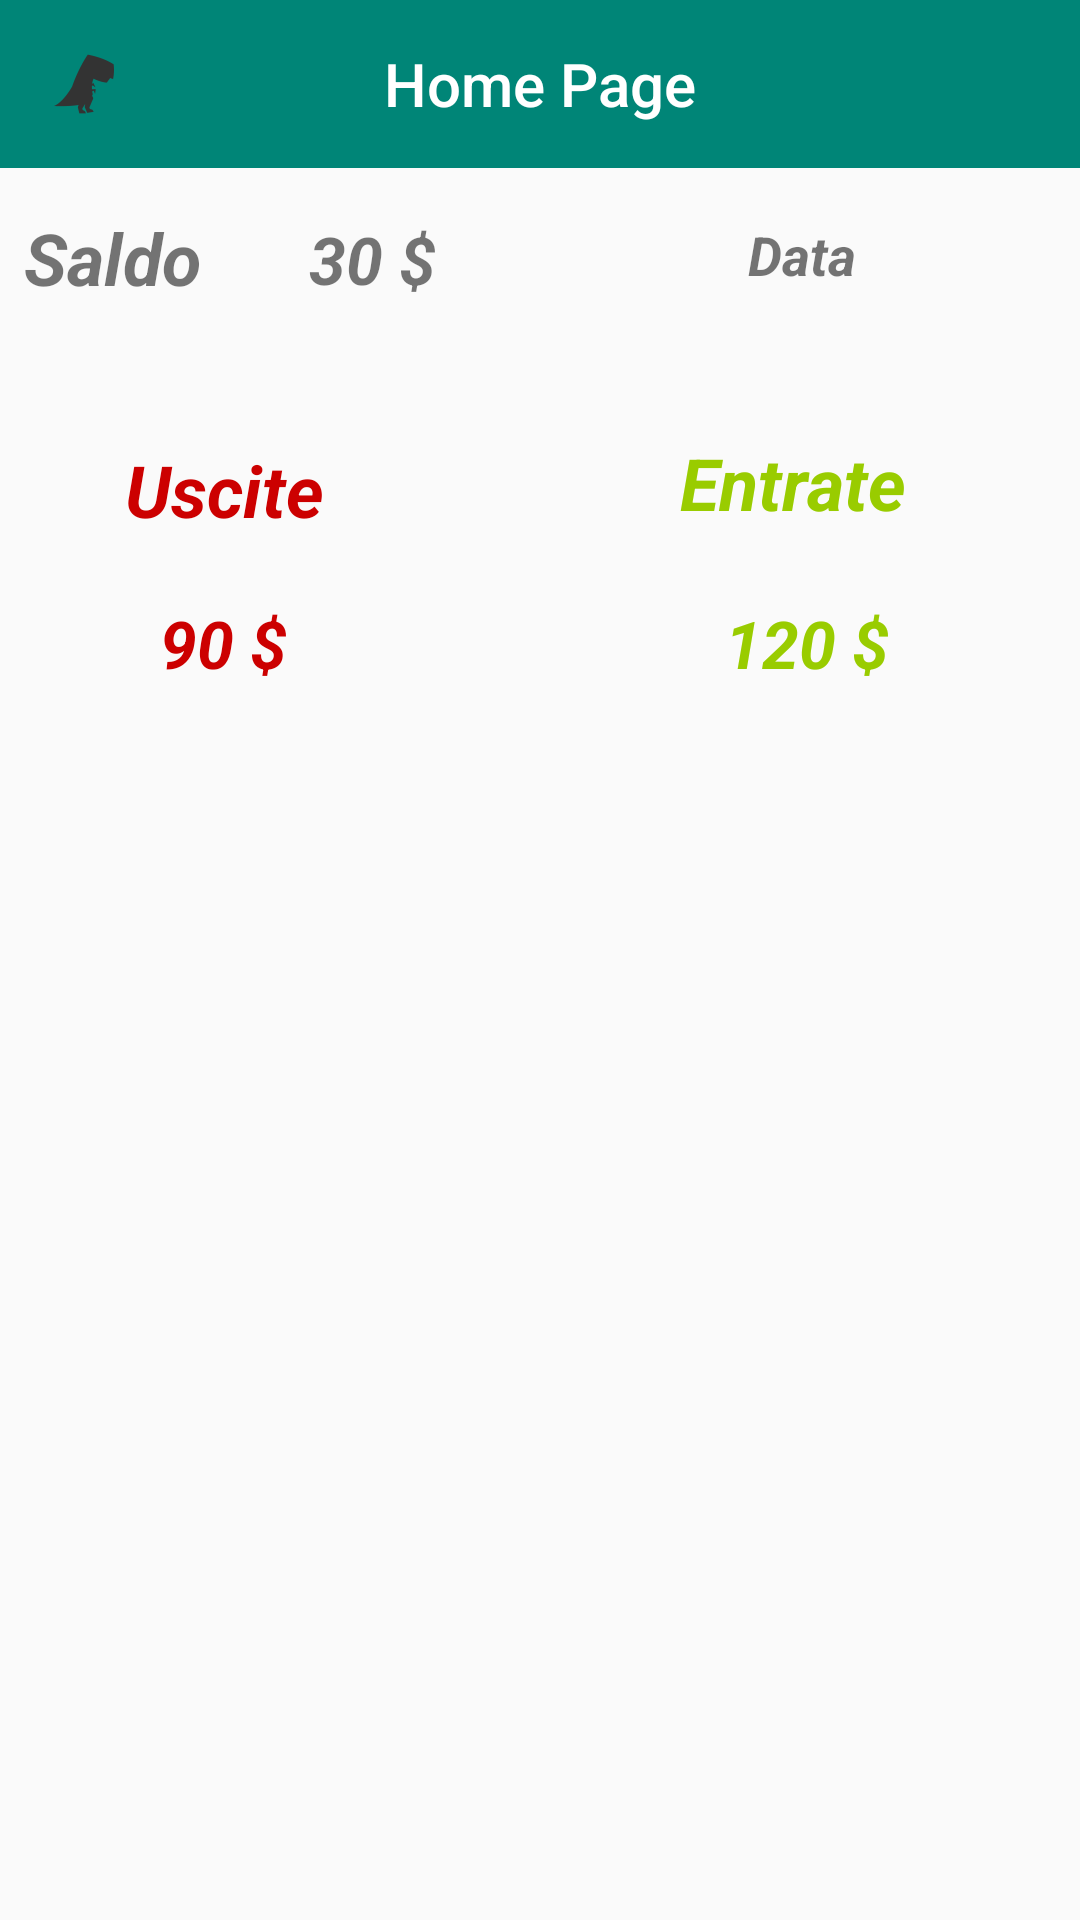

Icon click points for this 1080*1920 phone screenshot, format (x,y):
rex: (84,84)
